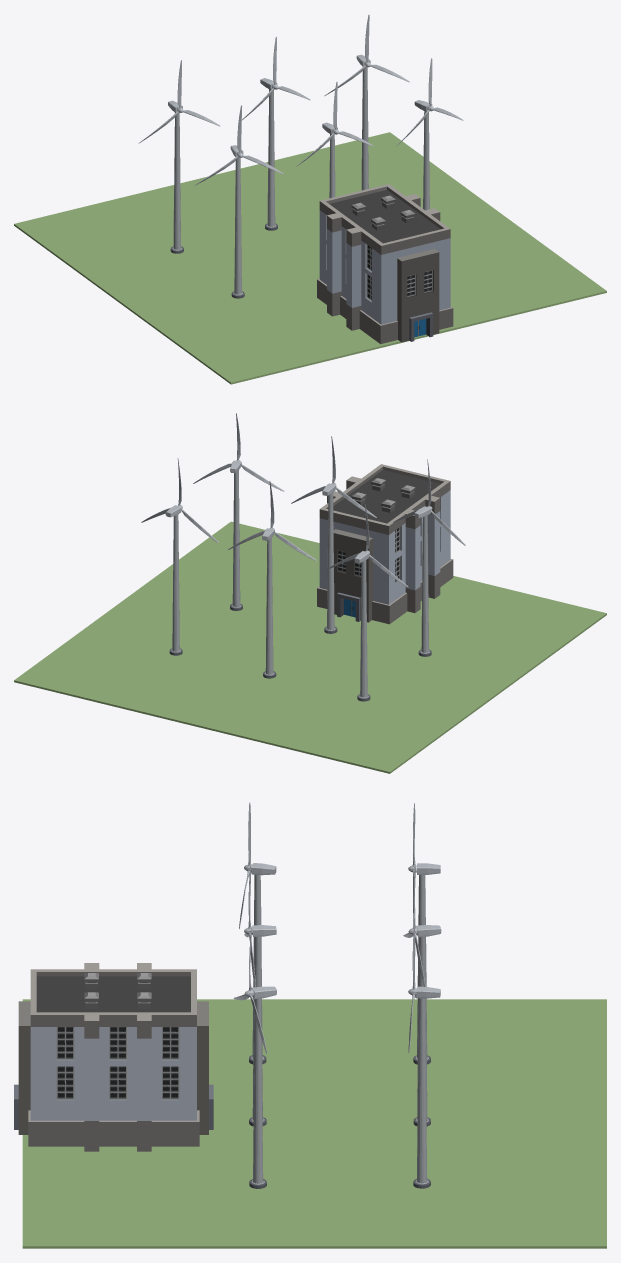
The model's file is wind-farm.glb.
3 renders of one model, top to bottom at view 1: azimuth 30°, elevation 25°; view 2: azimuth 150°, elevation 25°; view 3: azimuth 270°, elevation 25°, orthographic. The views are drawn at different scales.
Visible parts, largest first — view 1: Ground, Powerhouse, WindTurbine_3, WindTurbine_0, WindTurbine_1, WindTurbine_2, WindTurbine_5, WindTurbine_4; view 2: Ground, Powerhouse, WindTurbine_1, WindTurbine_4, WindTurbine_0, WindTurbine_5, WindTurbine_2, WindTurbine_3; view 3: Ground, Powerhouse, WindTurbine_2, WindTurbine_5, WindTurbine_4, WindTurbine_0, WindTurbine_1, WindTurbine_3.
Boxes of the visible parts, <box> form: Ground: <box>14,132,606,384</box>; Powerhouse: <box>317,184,453,344</box>; WindTurbine_3: <box>195,105,283,298</box>; WindTurbine_0: <box>138,60,220,253</box>; WindTurbine_1: <box>241,36,310,230</box>; WindTurbine_2: <box>324,14,409,190</box>; WindTurbine_5: <box>396,58,463,210</box>; WindTurbine_4: <box>296,82,373,198</box>; Ground: <box>14,521,606,773</box>; Powerhouse: <box>317,464,453,624</box>; WindTurbine_1: <box>228,481,316,678</box>; WindTurbine_4: <box>291,436,376,633</box>; WindTurbine_0: <box>326,504,408,701</box>; WindTurbine_5: <box>193,413,284,610</box>; WindTurbine_2: <box>141,458,218,655</box>; WindTurbine_3: <box>393,459,465,656</box>; Ground: <box>22,999,606,1248</box>; Powerhouse: <box>14,963,213,1151</box>; WindTurbine_2: <box>408,926,440,1188</box>; WindTurbine_5: <box>233,928,276,1188</box>; WindTurbine_4: <box>244,865,276,1126</box>; WindTurbine_0: <box>408,803,440,1064</box>; WindTurbine_1: <box>403,865,441,1126</box>; WindTurbine_3: <box>239,802,276,1064</box>.
Bounding box in the file's own units: 32 × 15.83 × 32.47.
3 materials, 2 textured.
